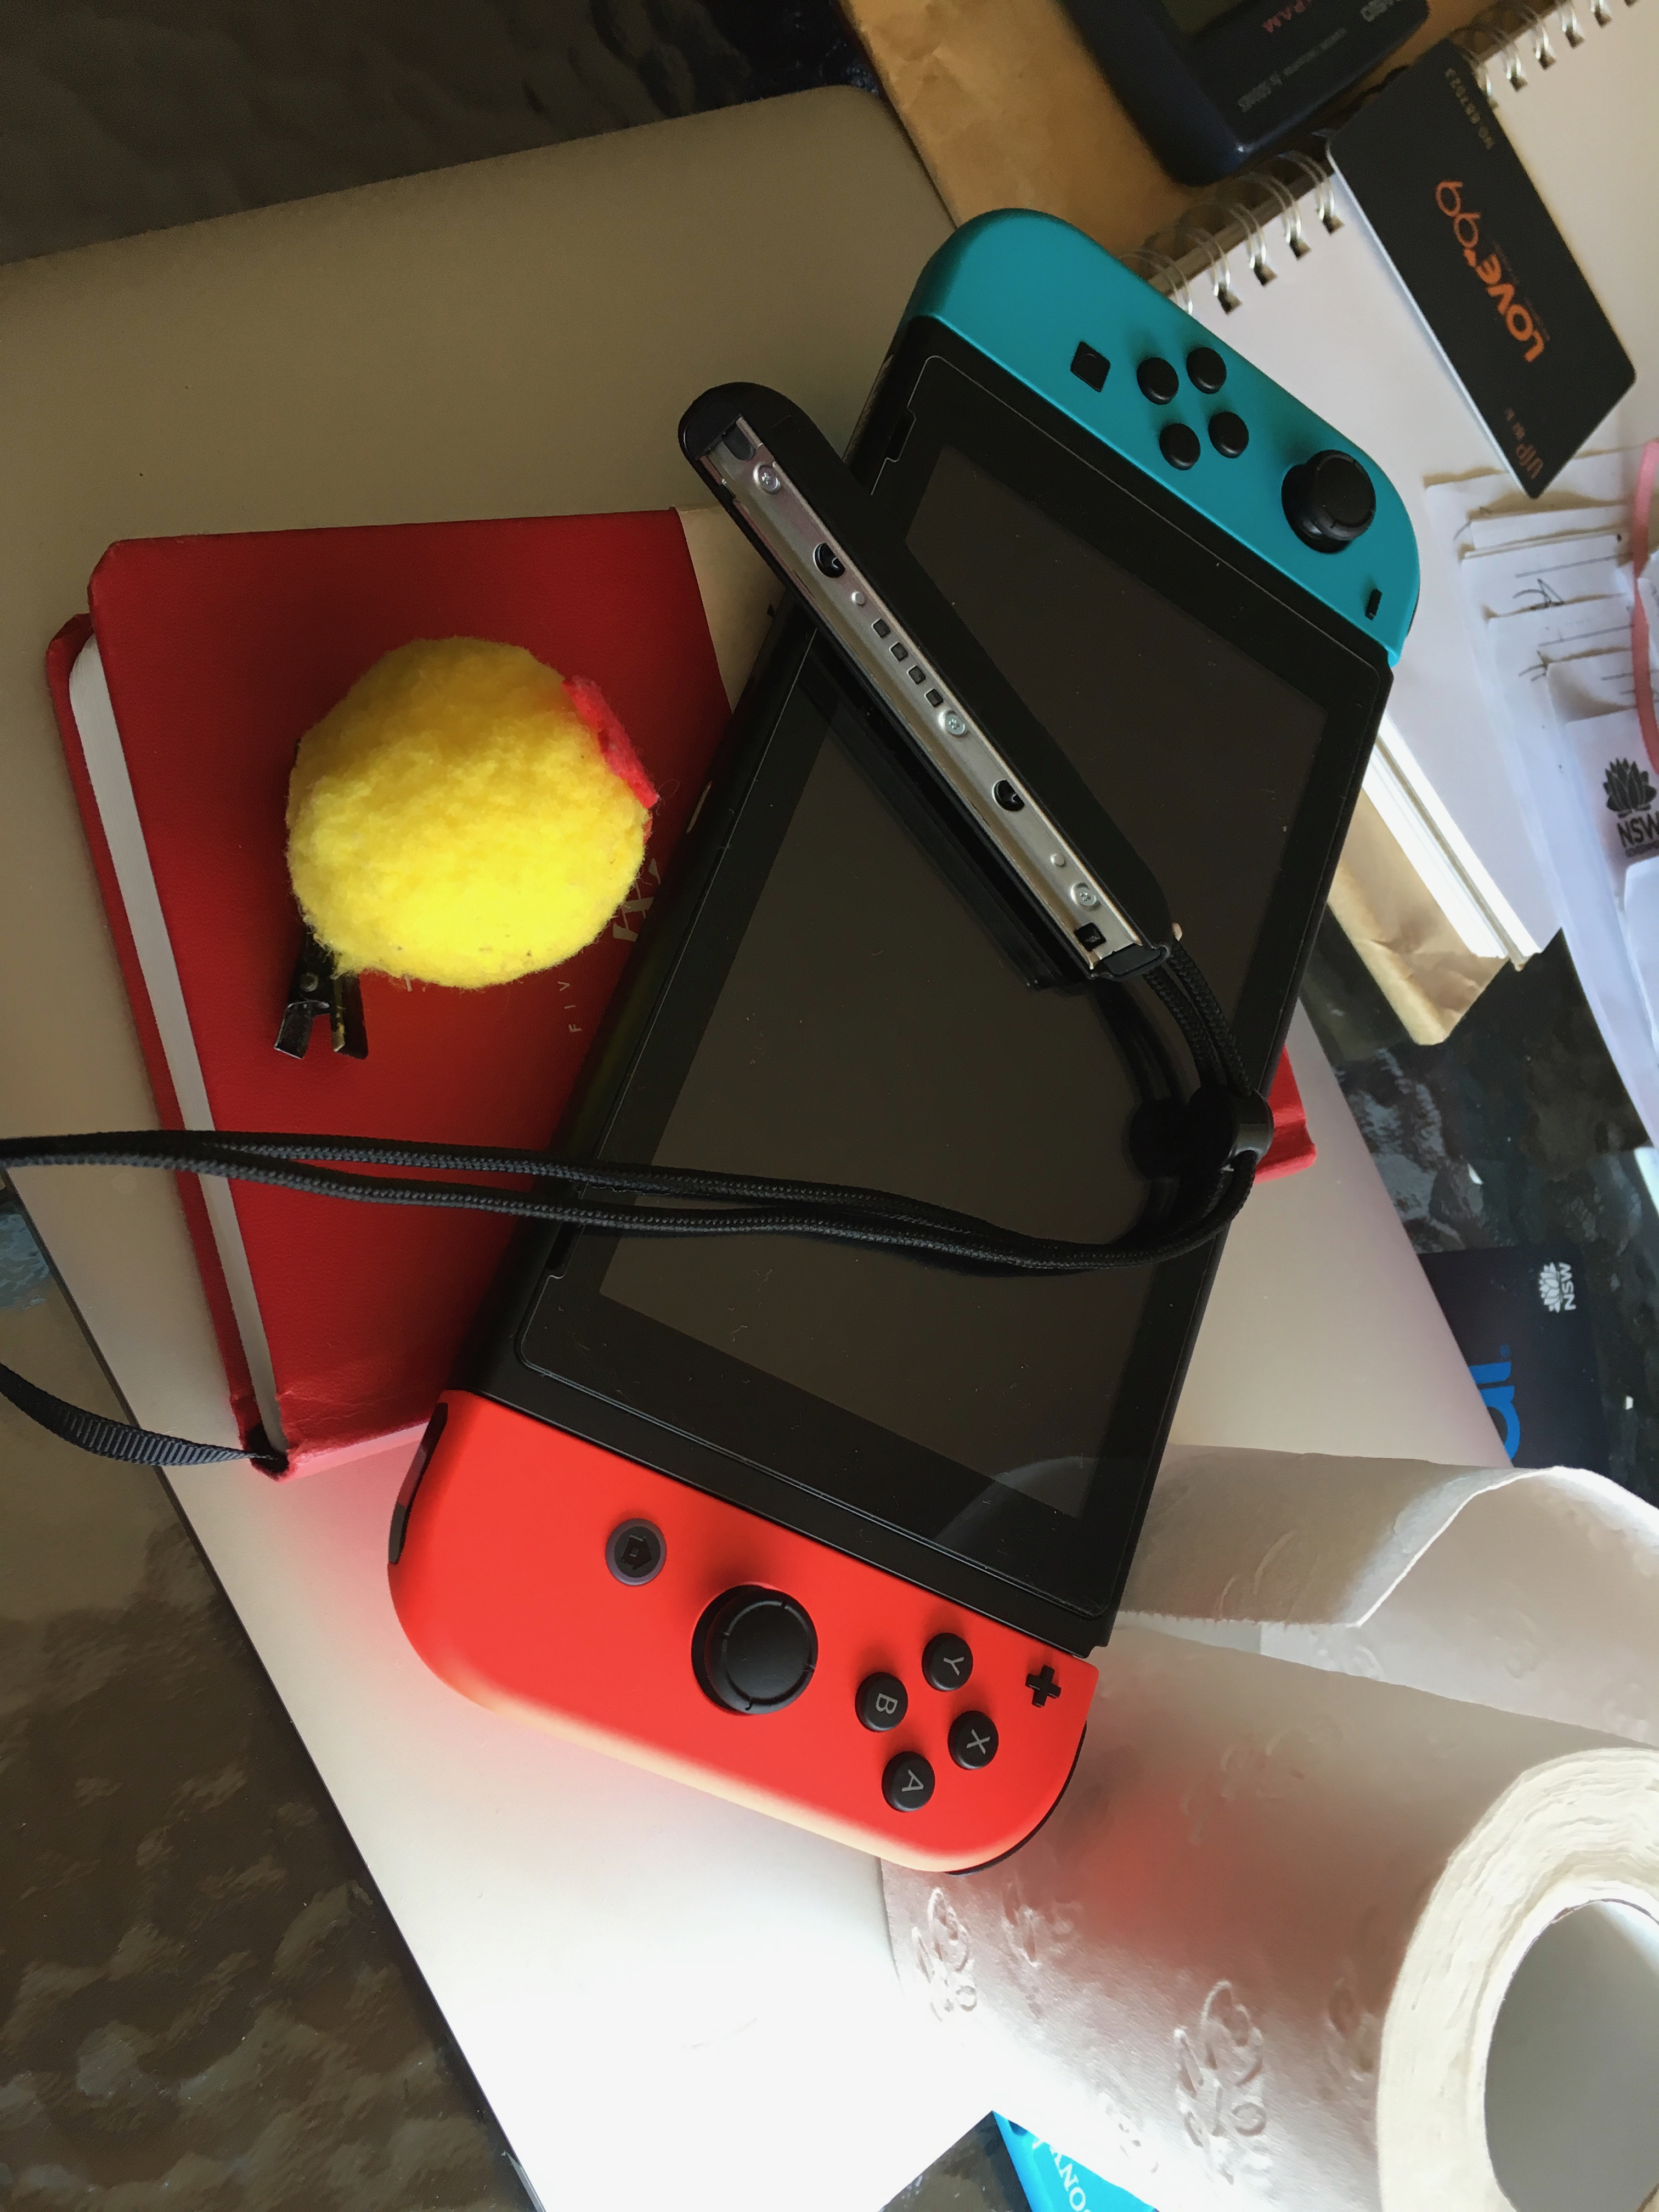NintendoSwitch: (356, 174, 1439, 1893)
